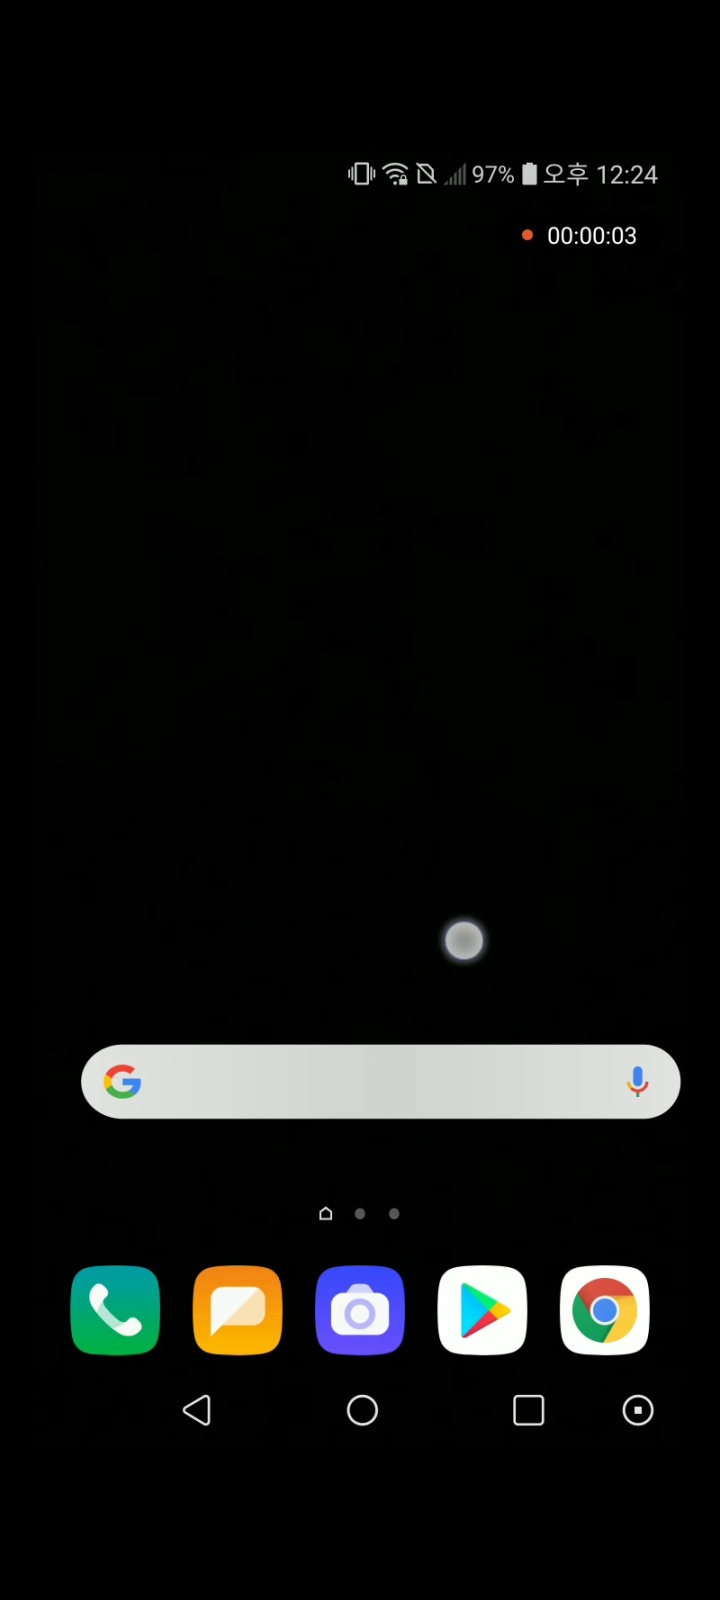Cursor: (441, 917, 486, 962)
